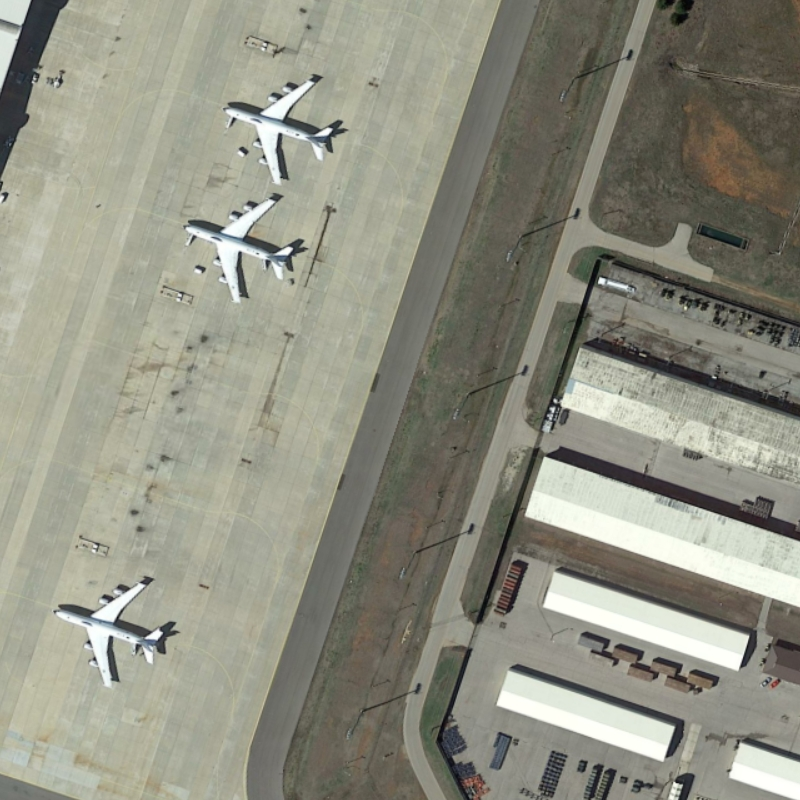A11: (44, 569, 187, 692), (177, 189, 312, 304), (218, 69, 344, 191)
